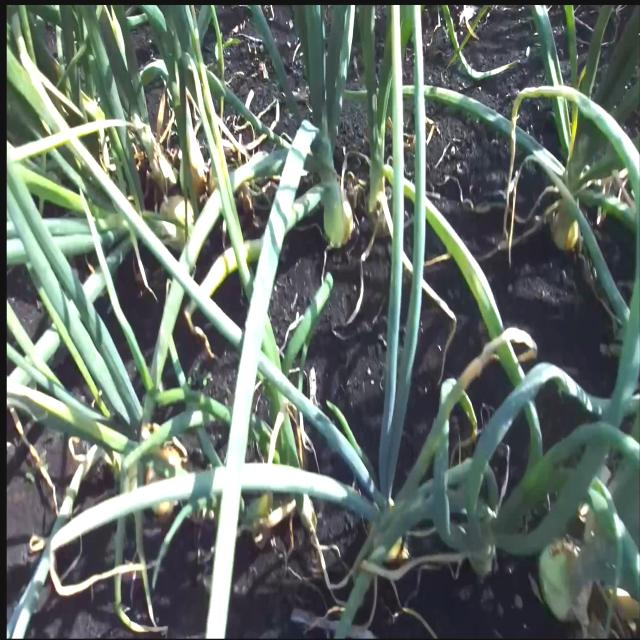onion: (540, 537, 594, 618), (321, 194, 354, 258), (548, 200, 582, 256)
